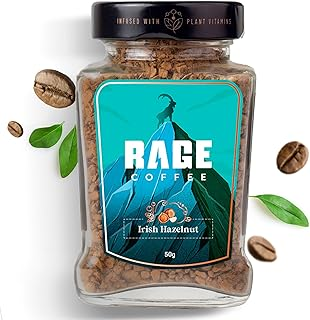Coffee: (78, 1, 257, 311)
